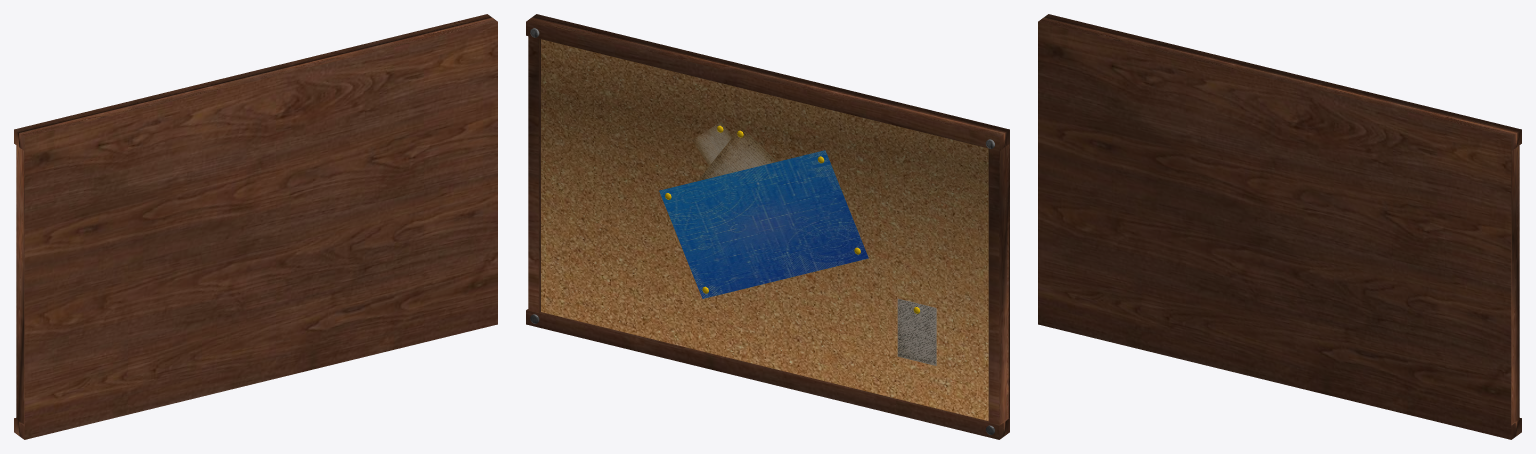
Rendered from sf_bulletin_board.glb.
The picture shows the model from 3 angles, left to right: view 1: azimuth 30°, elevation 25°; view 2: azimuth 150°, elevation 25°; view 3: azimuth 330°, elevation 25°; orthographic projection.
Parts seen in each view (by area): view 1: Cube; view 2: Cube, Plane.002, Plane.003, Plane, Plane.001; view 3: Cube.
Part boxes in pixels (x1=…): Cube: x1=14, y1=14, x2=497, y2=439; Cube: x1=526, y1=14, x2=1009, y2=439; Plane.002: x1=659, y1=150, x2=868, y2=298; Plane.003: x1=897, y1=298, x2=936, y2=365; Plane: x1=697, y1=126, x2=777, y2=181; Plane.001: x1=692, y1=121, x2=732, y2=165; Cube: x1=1038, y1=14, x2=1521, y2=439.
Size of the model in its own units: 1.8 by 1.1 by 0.0748.
8 materials, 8 textured.
